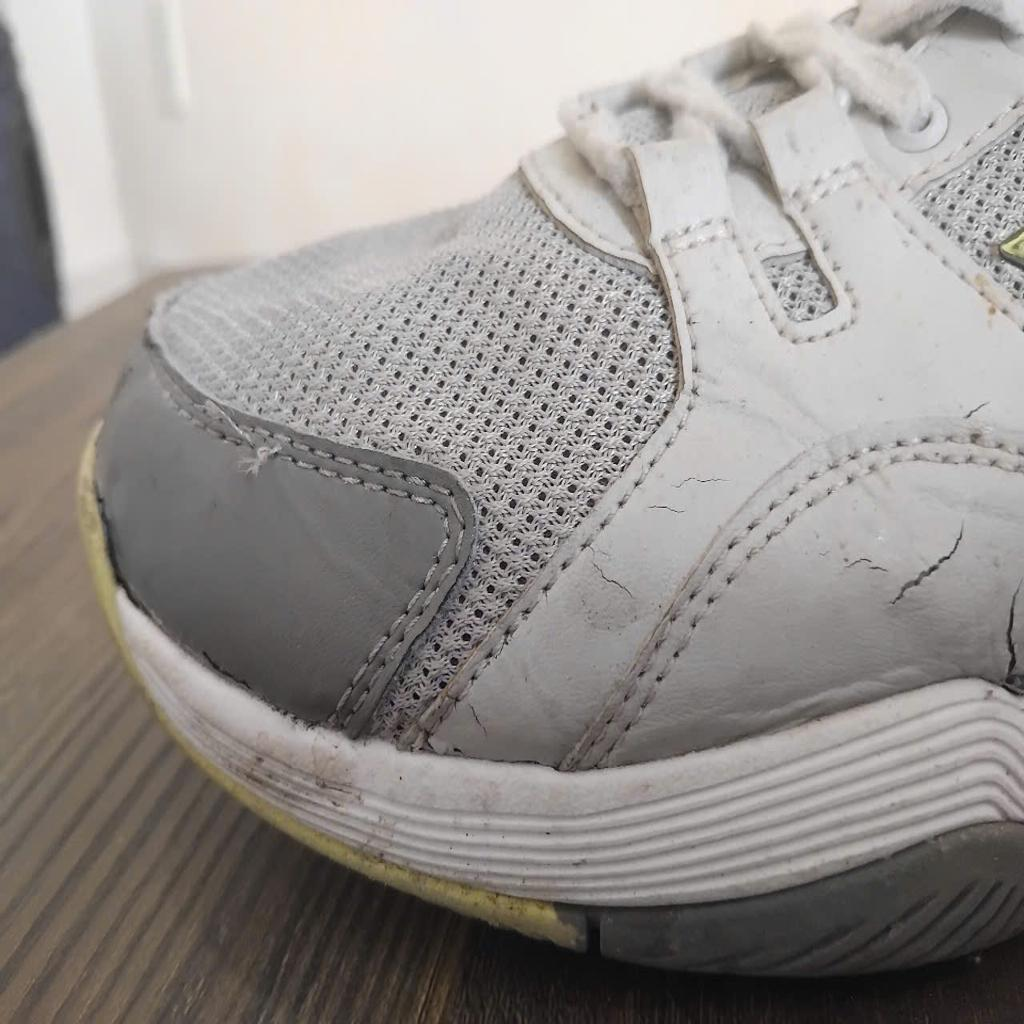broken: (235, 438, 289, 482)
